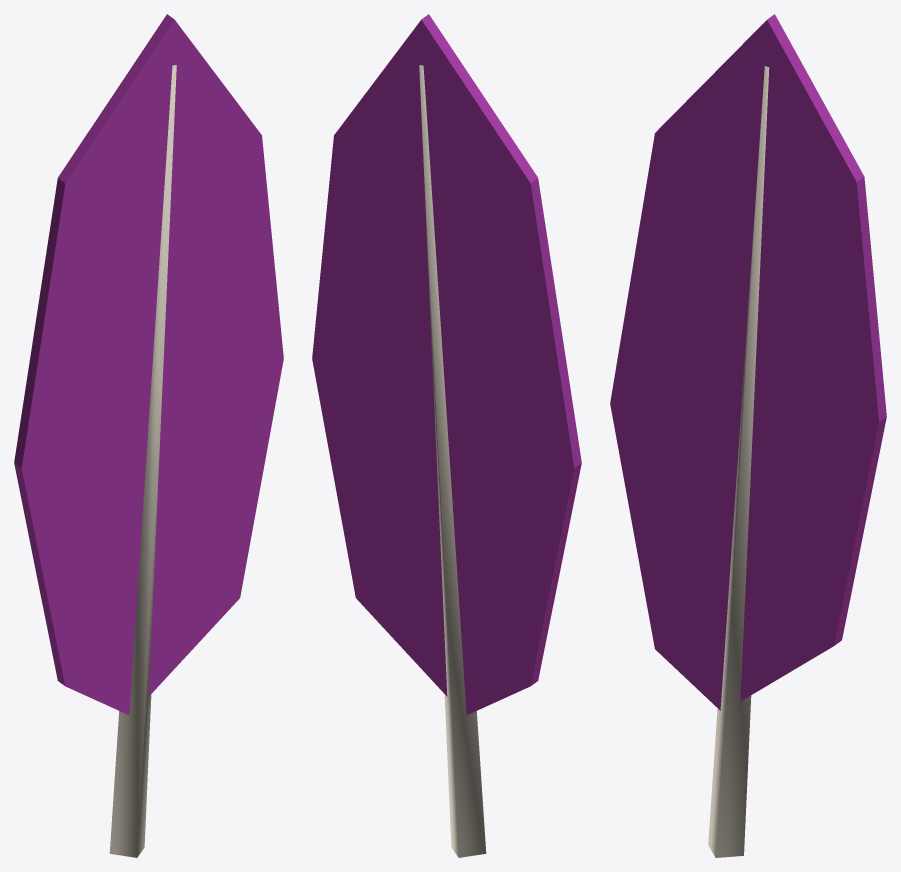
Rendered from strange_plant_1.glb.
3 views of the same model, side by side, from view 1: azimuth 30°, elevation 25°; view 2: azimuth 150°, elevation 25°; view 3: azimuth 330°, elevation 25° (orthographic). The views are drawn at different scales.
Visible parts, largest first — view 1: strange_plant_1_v0; view 2: strange_plant_1_v0; view 3: strange_plant_1_v0.
Boxes of the visible parts, left/top/right/bottom form: strange_plant_1_v0: left=14, top=14, right=283, bottom=857; strange_plant_1_v0: left=312, top=14, right=581, bottom=857; strange_plant_1_v0: left=610, top=14, right=886, bottom=857.
Bounding box in the file's own units: 0.12 × 0.3605 × 0.016.
